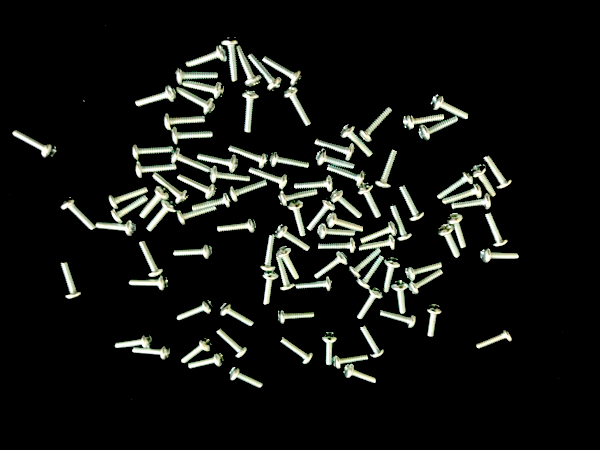shortscrew: (246, 52, 282, 92), (11, 129, 57, 160), (261, 55, 303, 86), (60, 196, 96, 232), (358, 106, 393, 143), (282, 84, 312, 127), (339, 124, 375, 158), (437, 169, 474, 200), (110, 195, 149, 224), (430, 93, 470, 121), (170, 148, 213, 174), (236, 45, 262, 88), (418, 115, 459, 142), (483, 153, 513, 189), (177, 87, 216, 114), (185, 43, 227, 68), (355, 255, 385, 290), (230, 143, 270, 169), (216, 328, 249, 359), (349, 248, 383, 278), (313, 251, 348, 280), (307, 198, 336, 232), (279, 337, 314, 365), (275, 224, 310, 252), (219, 300, 255, 327), (177, 202, 217, 226), (134, 87, 177, 109), (108, 186, 149, 209), (230, 179, 269, 203), (398, 185, 424, 221), (139, 241, 164, 278), (357, 182, 382, 219), (407, 270, 444, 295), (315, 138, 355, 161), (326, 164, 366, 187), (375, 149, 398, 189), (177, 298, 215, 322), (442, 183, 483, 205), (180, 338, 213, 365), (356, 287, 383, 320), (471, 164, 497, 198), (191, 192, 233, 213), (222, 36, 241, 82), (315, 149, 356, 170), (361, 221, 398, 244), (437, 224, 462, 258), (198, 153, 240, 173), (485, 213, 509, 248), (59, 261, 81, 299), (390, 205, 413, 241), (242, 90, 261, 133), (277, 246, 301, 280), (271, 150, 311, 170), (476, 328, 514, 349), (326, 212, 364, 233), (403, 112, 445, 131), (134, 161, 178, 179), (230, 366, 264, 389), (404, 261, 443, 281), (173, 242, 214, 261), (447, 212, 468, 249), (171, 127, 214, 145), (163, 113, 206, 131), (182, 82, 225, 100), (361, 326, 385, 358), (175, 68, 219, 85), (343, 364, 377, 386), (287, 200, 307, 237), (129, 274, 169, 292), (132, 143, 174, 160), (317, 222, 356, 240), (382, 258, 402, 293), (96, 220, 137, 237), (113, 333, 154, 350), (216, 217, 257, 234), (210, 167, 251, 184), (480, 248, 520, 265), (451, 193, 491, 210), (380, 311, 417, 329), (189, 352, 225, 370), (260, 234, 277, 272), (277, 257, 296, 291), (132, 345, 172, 361), (359, 235, 396, 252), (262, 271, 280, 305), (295, 276, 333, 292), (426, 303, 443, 338), (333, 353, 370, 369), (317, 239, 356, 254), (392, 280, 409, 314), (322, 332, 337, 366), (277, 311, 315, 324)
